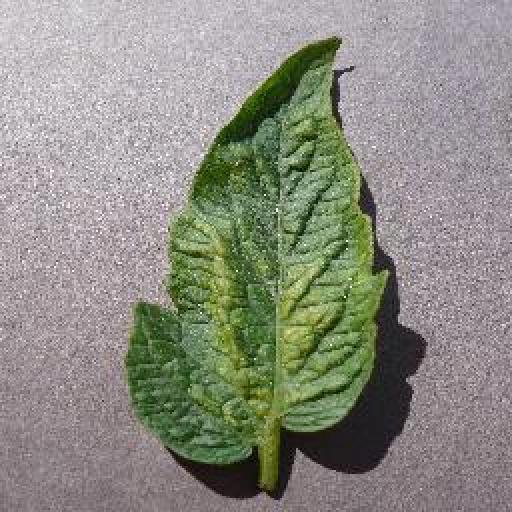disease_tomato: (126, 33, 388, 467)
